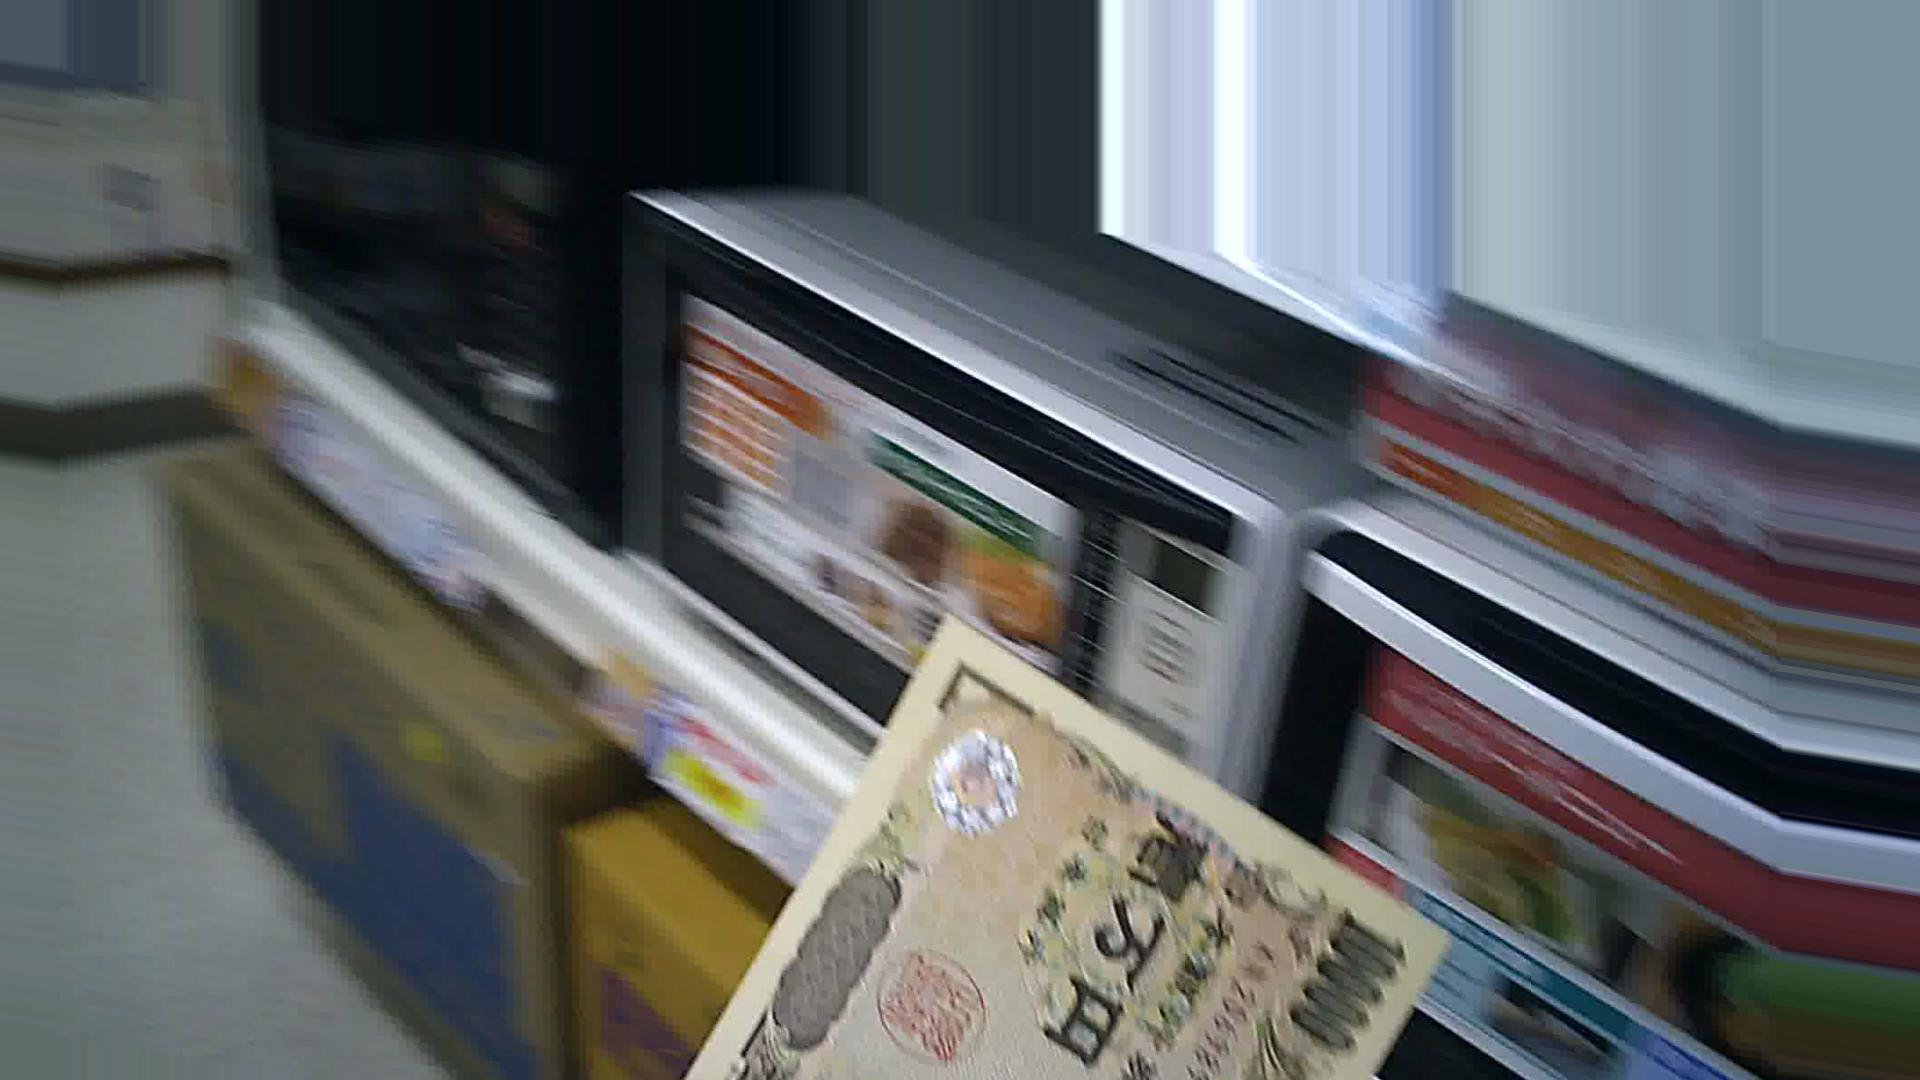10,000 Yen: (642, 613, 1402, 1067)
